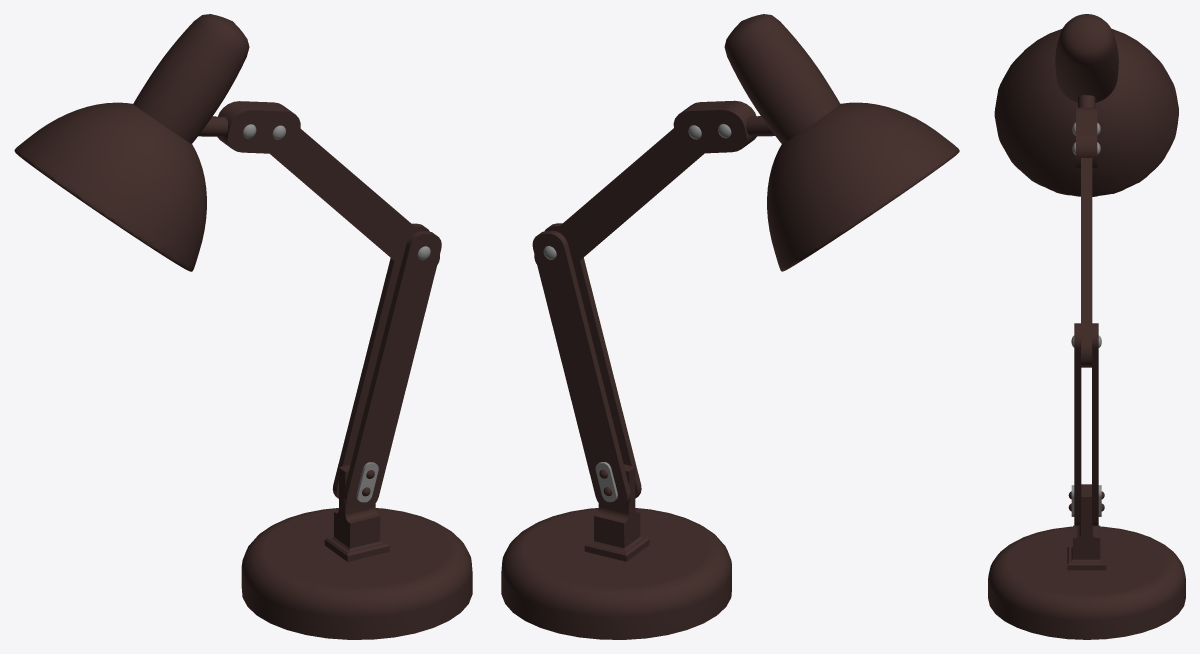
File: LampeBureau2_2.fbx
3 renders of one model, left to right at view 1: azimuth 30°, elevation 25°; view 2: azimuth 150°, elevation 25°; view 3: azimuth 270°, elevation 25°, orthographic. The views are drawn at different scales.
Visible parts, largest first — view 1: pCylinder754, pSphere137, pCube2006, pCylinder757, pCube2002, pCube2008, pCube2005, pCube2007; view 2: pCylinder754, pSphere137, pCube2005, pCylinder757, pCube2002, pCube2008, pCube2006, pCube2007; view 3: pSphere137, pCylinder754, pCylinder757, pCube2002, pCube2007, pCube2006, pCube2005, pCube2008.
Part boxes in pixels (left/top/right/bottom): pCylinder754: left=241, top=508, right=472, bottom=639; pSphere137: left=14, top=102, right=206, bottom=271; pCube2006: left=343, top=231, right=441, bottom=510; pCylinder757: left=133, top=14, right=249, bottom=143; pCube2002: left=270, top=128, right=439, bottom=265; pCube2008: left=217, top=101, right=300, bottom=153; pCube2005: left=332, top=223, right=429, bottom=498; pCube2007: left=324, top=464, right=389, bottom=561; pCylinder754: left=501, top=508, right=731, bottom=639; pSphere137: left=767, top=102, right=959, bottom=271; pCube2005: left=532, top=230, right=631, bottom=509; pCylinder757: left=724, top=14, right=840, bottom=143; pCube2002: left=534, top=128, right=704, bottom=265; pCube2008: left=673, top=100, right=756, bottom=153; pCube2006: left=545, top=223, right=641, bottom=498; pCube2007: left=584, top=464, right=649, bottom=561; pSphere137: left=994, top=28, right=1178, bottom=196; pCylinder754: left=988, top=526, right=1185, bottom=639; pCylinder757: left=1055, top=14, right=1118, bottom=102; pCube2002: left=1081, top=158, right=1092, bottom=367; pCube2007: left=1067, top=484, right=1106, bottom=570; pCube2006: left=1074, top=323, right=1081, bottom=526; pCube2005: left=1092, top=323, right=1098, bottom=526; pCube2008: left=1076, top=107, right=1097, bottom=169.
Bounding box in the file's own units: 23.95 × 32.81 × 11.29.
